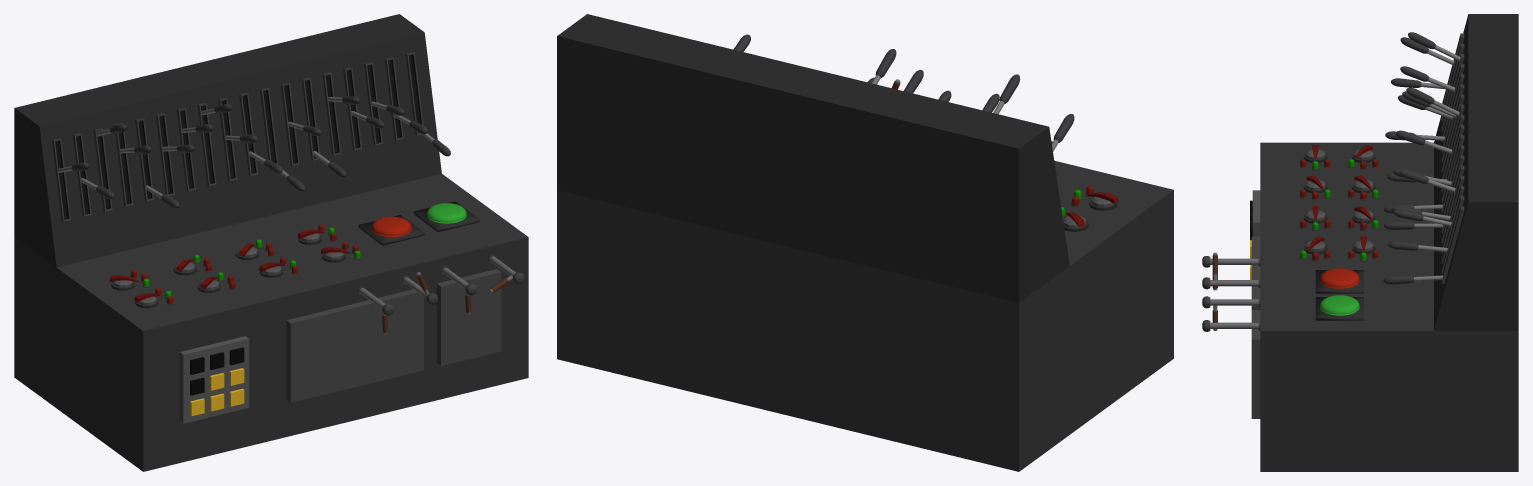
The model's file is Mesa 4.fbx.
3 renders of one model, left to right at view 1: azimuth 30°, elevation 25°; view 2: azimuth 150°, elevation 25°; view 3: azimuth 270°, elevation 25°, orthographic. The views are drawn at different scales.
Visible parts, largest first — view 1: Mesa 4, Tampa.004, Tampa.003, Pad.005, Botao Grande.005, Botao Grande.006, Alavanca_2.015, Alavanca_2.017, Alavanca_2.004, Alavanca_2.009, Alavanca_2.016, Alavanca_2.021 (+12 smaller); view 2: Mesa 4; view 3: Mesa 4, Botao Grande.006, Botao Grande.005, Tampa.003, Alavanca_2.021, Alavanca_2.020, Alavanca_2.019, Alavanca_2.011, Alavanca_2.017, Alavanca_2.012, Alavanca_2.016, Alavanca_2.007 (+16 smaller).
Boxes of the visible parts, x1,y1,x2,y2 form: Mesa 4: (14, 14, 528, 471); Tampa.004: (286, 289, 423, 402); Tampa.003: (436, 269, 501, 365); Pad.005: (179, 336, 249, 423); Botao Grande.005: (358, 214, 424, 245); Botao Grande.006: (413, 201, 479, 232); Alavanca_2.015: (280, 82, 321, 165); Alavanca_2.017: (322, 72, 359, 155); Alavanca_2.004: (52, 138, 88, 221); Alavanca_2.009: (156, 113, 194, 195); Alavanca_2.016: (301, 77, 346, 177); Alavanca_2.021: (405, 52, 450, 156); Mesa 4: (557, 14, 1173, 471); Mesa 4: (1260, 14, 1518, 471); Botao Grande.006: (1315, 295, 1363, 320); Botao Grande.005: (1315, 268, 1363, 293); Tampa.003: (1251, 310, 1260, 418); Alavanca_2.021: (1383, 206, 1464, 284); Alavanca_2.020: (1388, 196, 1464, 273); Alavanca_2.019: (1393, 185, 1464, 263); Alavanca_2.011: (1406, 87, 1464, 178); Alavanca_2.017: (1399, 165, 1464, 242); Alavanca_2.012: (1396, 114, 1464, 192); Alavanca_2.016: (1384, 155, 1464, 232); Alavanca_2.007: (1400, 63, 1464, 141).
Size of the model in its own units: 1852 by 1278 by 1316.
